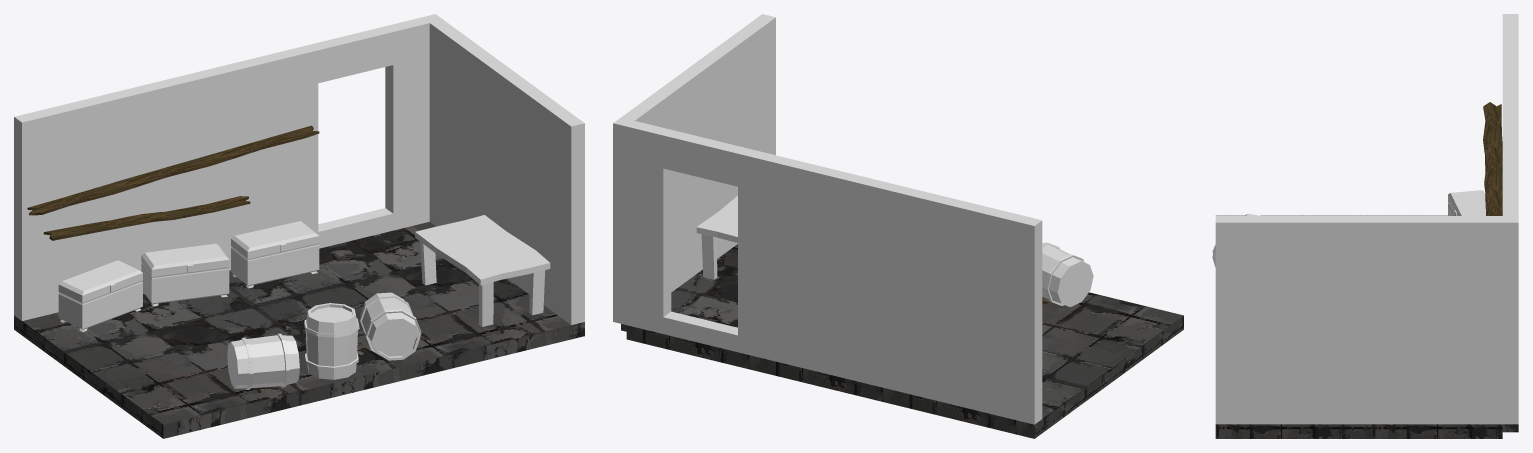
Rendered from Level-3.fbx.
3 renders of one model, left to right at view 1: azimuth 30°, elevation 25°; view 2: azimuth 150°, elevation 25°; view 3: azimuth 270°, elevation 25°, orthographic.
Visible parts, largest first — view 1: Interior, Table, Chest, Chest.001, Chest.002, Barell.001, Barell, Barell.002, Shelf.002, Shelf.003, Shelf.006, Shelf.004 (+1 smaller); view 2: Interior, Barell, Table; view 3: Interior, Chest.002, Shelf.002, Shelf.003, Shelf.001.
Part boxes in pixels (x1,y1,x2,y2): Interior: [14, 14, 584, 438]; Table: [415, 215, 550, 326]; Chest: [231, 221, 319, 288]; Chest.001: [141, 243, 229, 306]; Chest.002: [58, 260, 142, 331]; Barell.001: [304, 303, 359, 379]; Barell: [227, 333, 299, 389]; Barell.002: [360, 292, 421, 360]; Shelf.002: [27, 179, 137, 215]; Shelf.003: [124, 151, 233, 186]; Shelf.006: [43, 214, 154, 240]; Shelf.004: [144, 196, 250, 221]; Interior: [613, 14, 1183, 438]; Barell: [1042, 242, 1093, 306]; Table: [696, 195, 737, 279]; Interior: [1215, 14, 1518, 438]; Chest.002: [1448, 190, 1485, 215]; Shelf.002: [1483, 102, 1502, 151]; Shelf.003: [1484, 145, 1502, 193]; Shelf.001: [1485, 189, 1502, 215].
Size of the model in its own units: 927 by 447 by 575.
